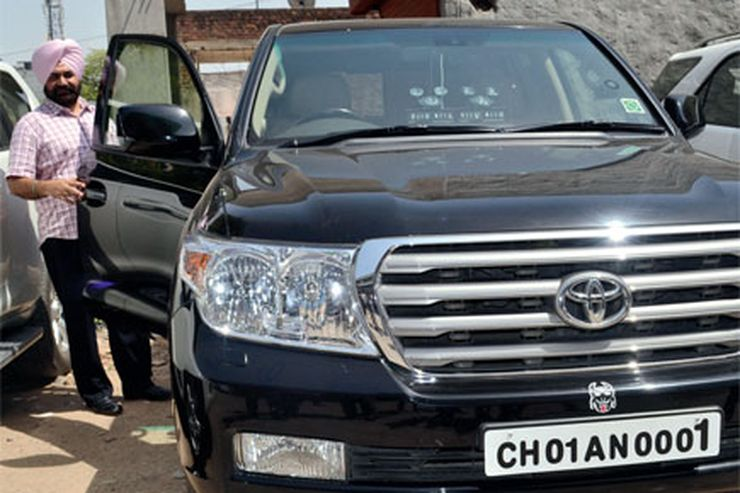number_plate: (483, 411, 722, 471)
